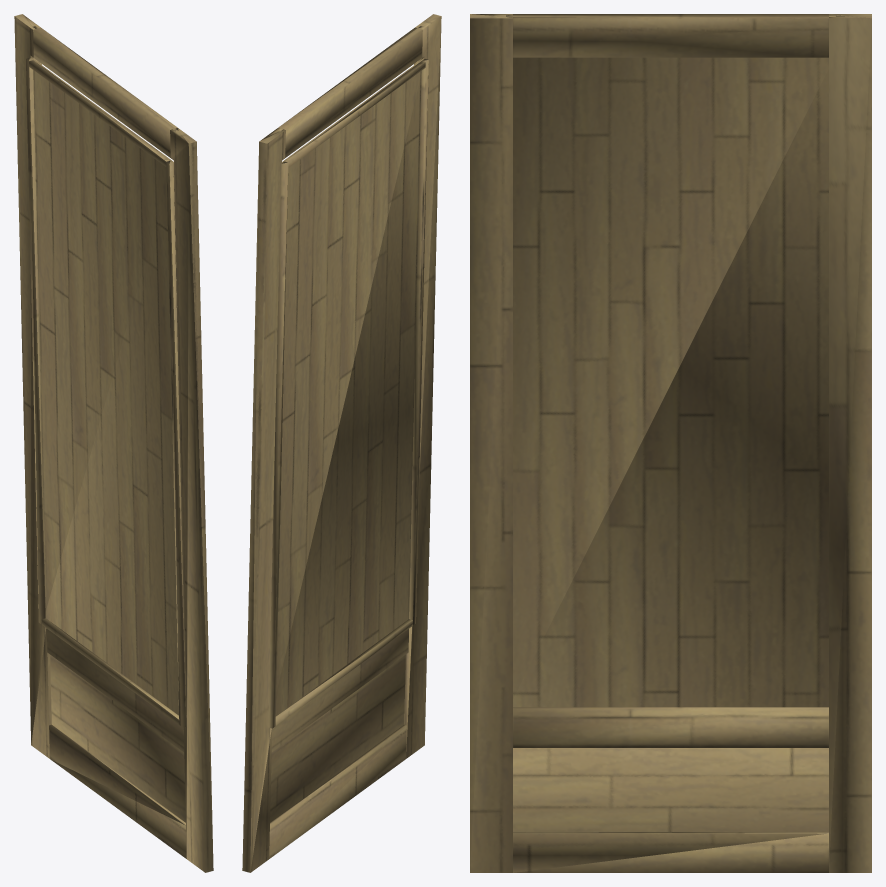
3 views of the same model, side by side, from view 1: azimuth 30°, elevation 25°; view 2: azimuth 150°, elevation 25°; view 3: azimuth 270°, elevation 25° (orthographic). The views are drawn at different scales.
Visible parts, largest first — view 1: visuals.002; view 2: visuals.002; view 3: visuals.002.
Part boxes in pixels (x1,y1,x2,y2): visuals.002: [14, 14, 213, 872]; visuals.002: [242, 14, 441, 872]; visuals.002: [470, 14, 871, 872].
Size of the model in its own units: 0.0292 by 0.7274 by 0.3134.
1 material, 1 textured.
